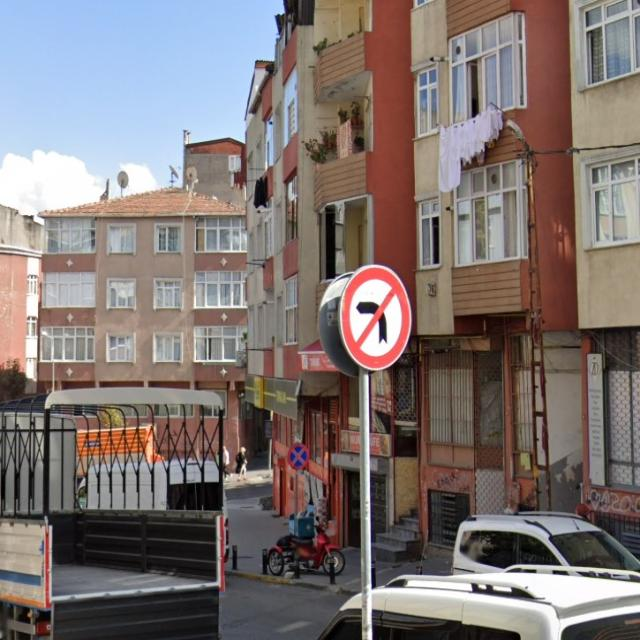soladonulmez: (338, 264, 412, 371)
